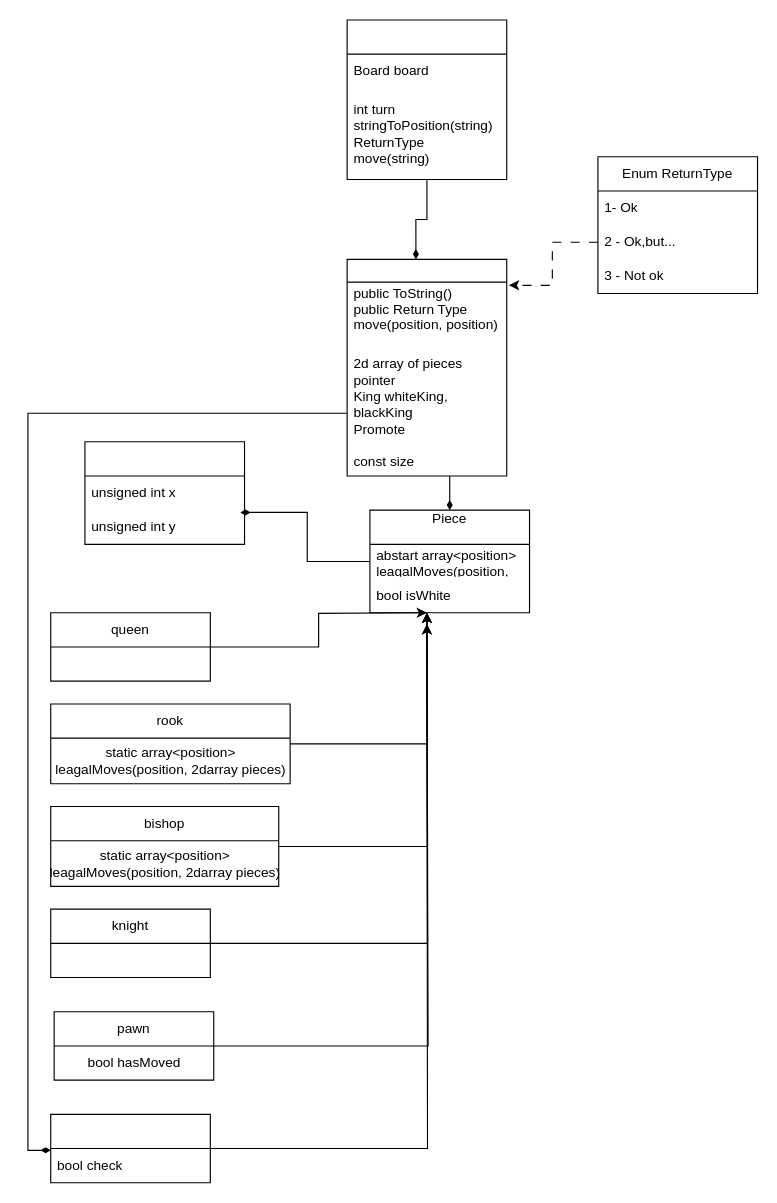
This 777x1203 diagram has some shape labels left out. Each missing label, with the box of its shape:
Board: (346, 258, 507, 476)
Game: (346, 19, 507, 180)
king: (50, 1113, 210, 1183)
Position: (84, 441, 245, 544)
